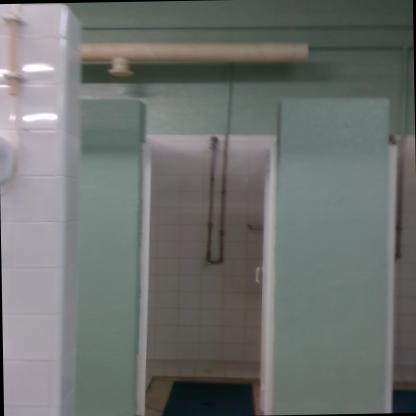open: (102, 106, 304, 413)
